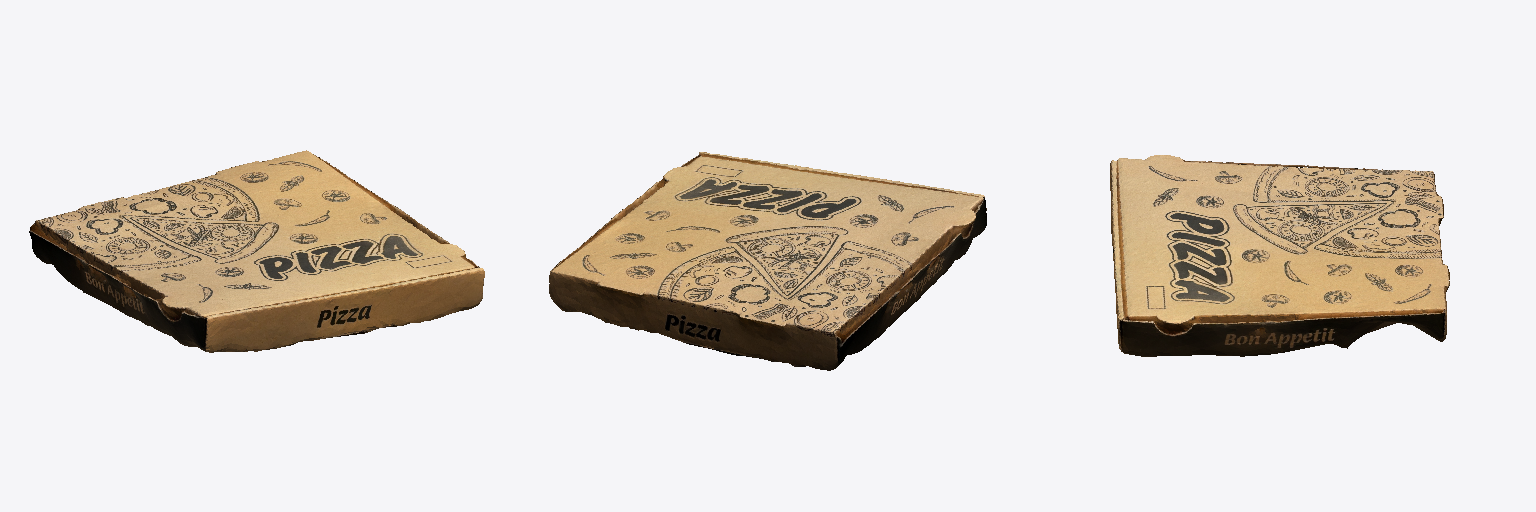
The picture shows the model from 3 angles: view 1: azimuth 30°, elevation 25°; view 2: azimuth 150°, elevation 25°; view 3: azimuth 270°, elevation 25°; orthographic projection.
Parts seen in each view (by area): view 1: 3DModel_LowPoly; view 2: 3DModel_LowPoly; view 3: 3DModel_LowPoly.
Boxes of the visible parts, box(x1,y1,x2,y2) form: 3DModel_LowPoly: box(29, 150, 484, 352); 3DModel_LowPoly: box(549, 152, 986, 370); 3DModel_LowPoly: box(1110, 155, 1449, 356).
Bounding box in the file's own units: 0.3149 × 0.0636 × 0.3018.
1 materials, 1 textured.